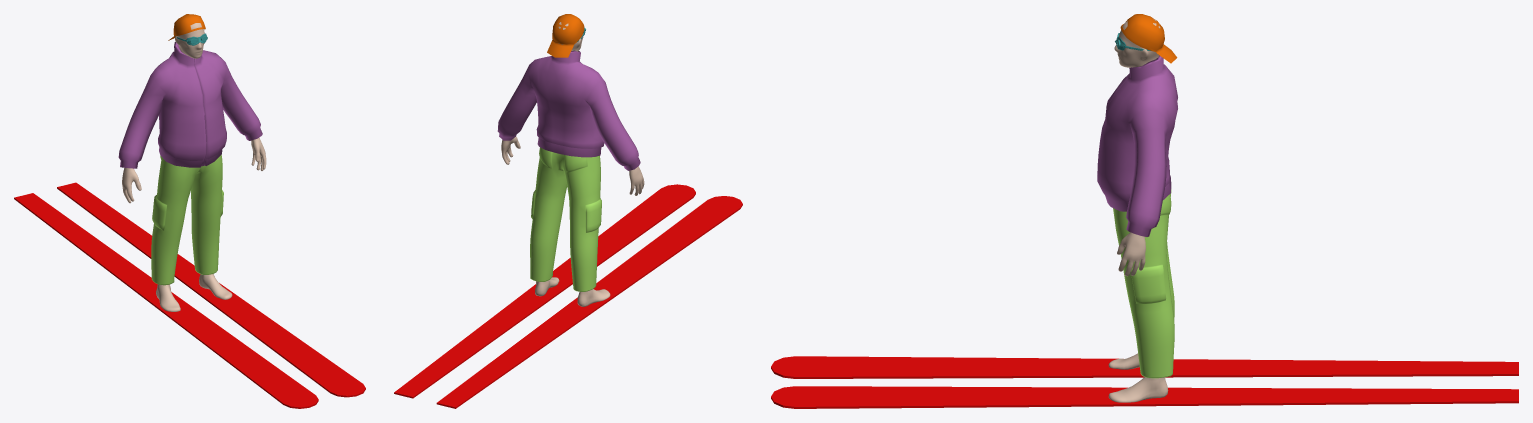
File: TempSkiman.fbx
3 views of the same model, side by side, from view 1: azimuth 30°, elevation 25°; view 2: azimuth 150°, elevation 25°; view 3: azimuth 270°, elevation 25° (orthographic). The views are drawn at different scales.
Parts seen in each view (by area): view 1: skiman; view 2: skiman; view 3: skiman.
Part boxes in pixels (x1,y1,x2,y2): skiman: (14, 14, 365, 408); skiman: (394, 14, 742, 408); skiman: (771, 14, 1518, 408).
Size of the model in its own units: 95.48 by 184 by 338.
